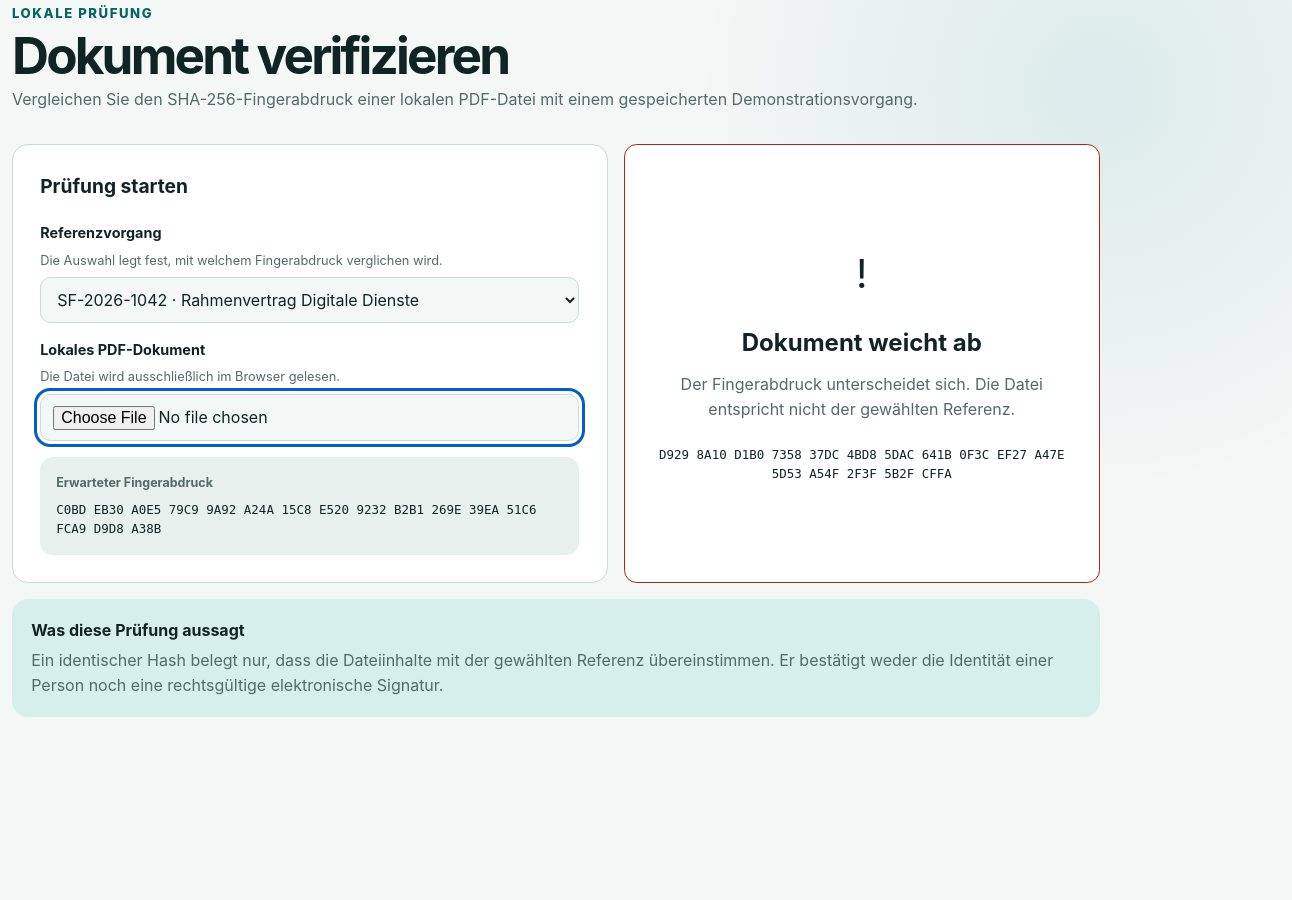
Test case: VerificationPage › shows an explicit mismatch and clears it when the reference changes
Earlier steps of the test are not shown.
Expected: the heading "Dokument weicht ab" is shown, [742,328,982,357]
Select "SF-2026-1038 · Freigabe Barrierefreiheitskonzept" in the dropdown labelled "Referenzvorgang" at (310, 300), box [40,277,579,323]
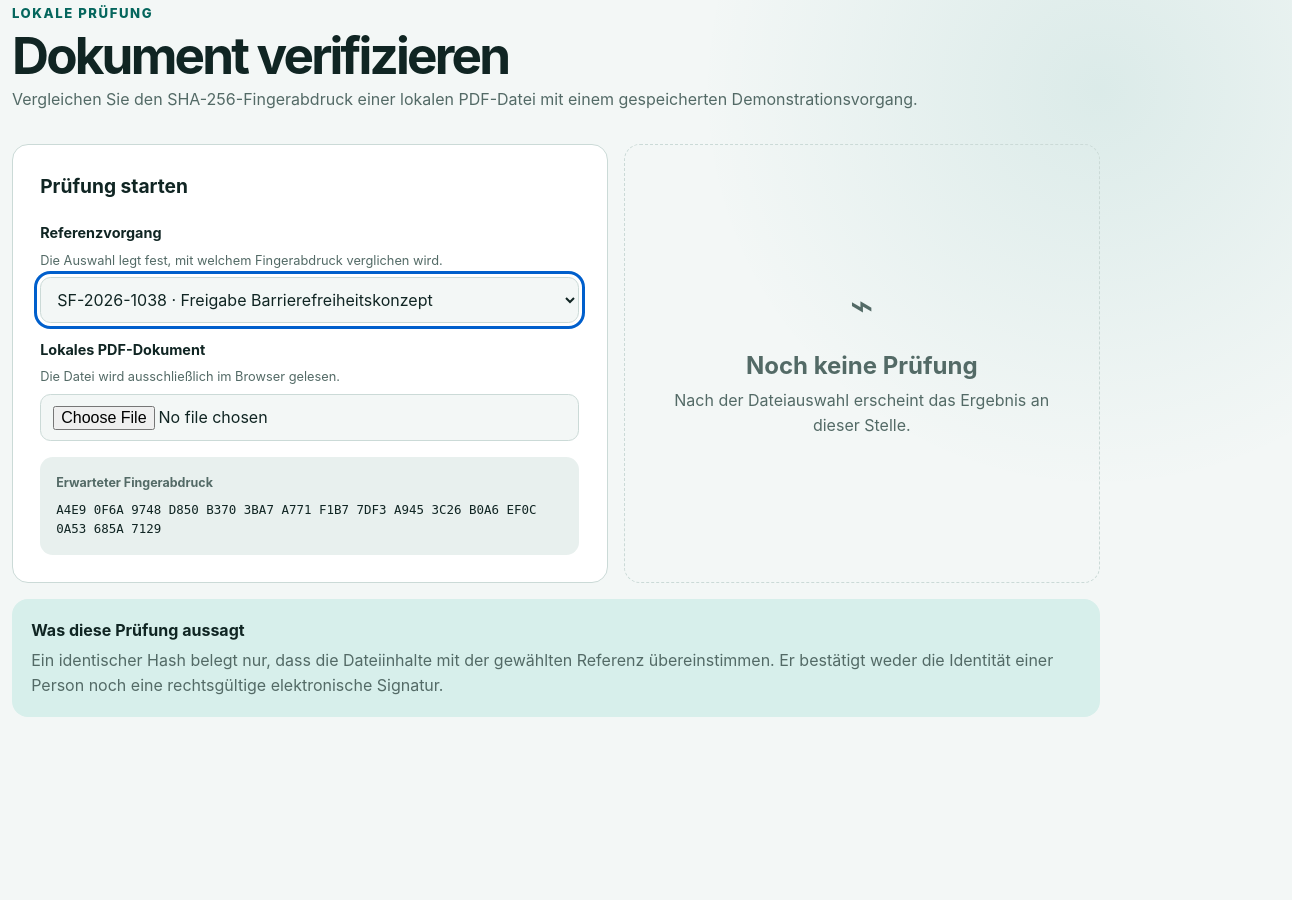
Now the heading "Dokument weicht ab" is gone
